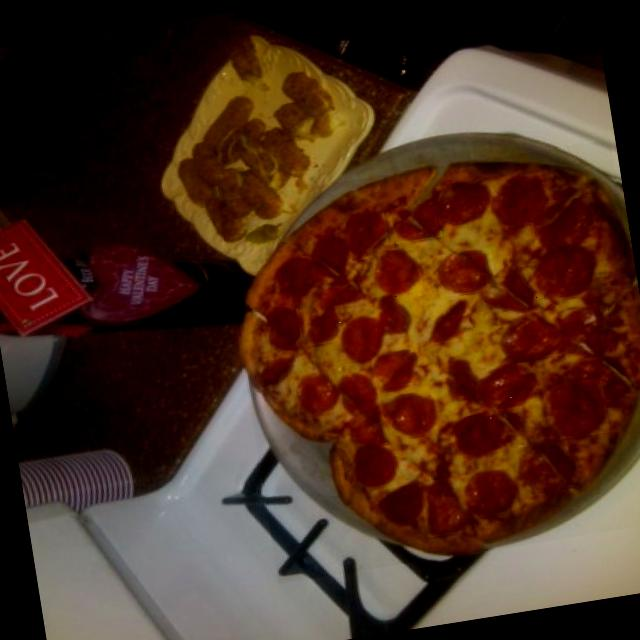pepperoni: (542, 376, 610, 441), (529, 240, 600, 302), (312, 228, 364, 309), (336, 368, 388, 448), (528, 193, 599, 250), (496, 307, 564, 363), (485, 170, 550, 228), (558, 301, 615, 364), (478, 262, 542, 318), (513, 438, 575, 494), (476, 359, 540, 413), (433, 246, 497, 297), (458, 466, 520, 518), (432, 178, 492, 230), (418, 475, 468, 537), (451, 409, 512, 457), (385, 388, 440, 439), (372, 246, 424, 297), (345, 204, 392, 260), (334, 312, 386, 362), (346, 444, 401, 491), (374, 482, 428, 527), (271, 253, 321, 301), (425, 294, 473, 344), (292, 368, 340, 416), (391, 200, 444, 243), (248, 348, 300, 391), (371, 348, 419, 389), (373, 290, 413, 339), (265, 302, 305, 350), (302, 308, 342, 345)
pizza: (241, 162, 640, 553)
